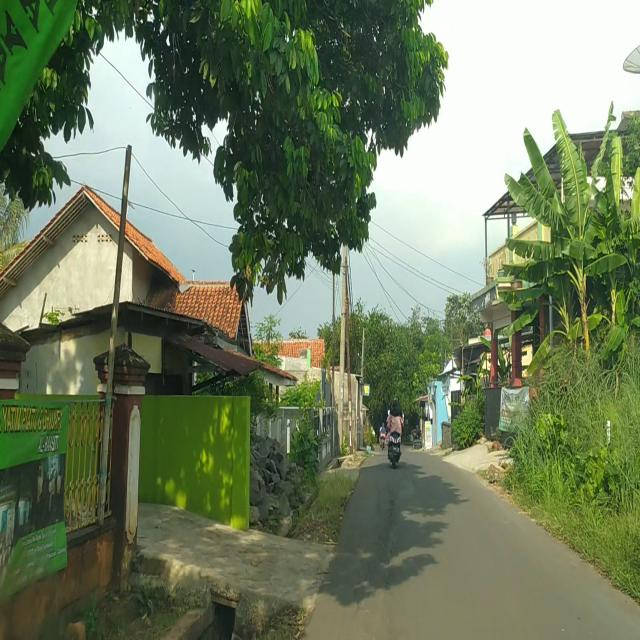Drain Hole: (358, 490, 403, 613)
